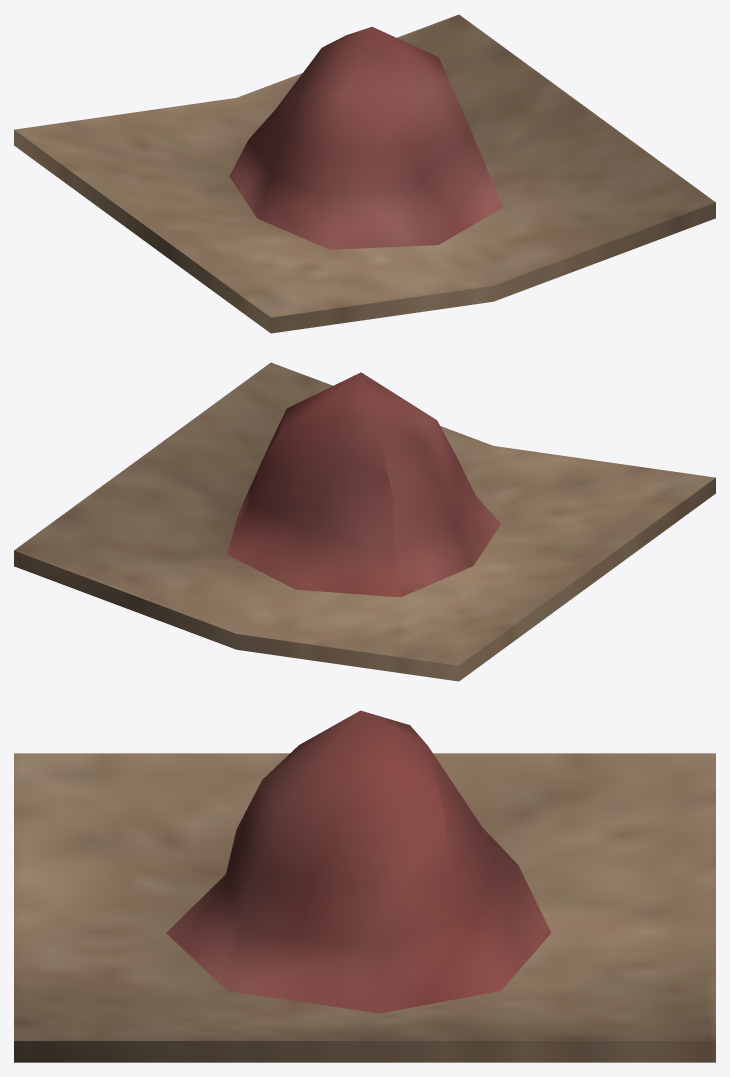
The model's file is Cinnabar_Crushed.fbx.
The picture shows the model from 3 angles, top to bottom: view 1: azimuth 30°, elevation 25°; view 2: azimuth 150°, elevation 25°; view 3: azimuth 270°, elevation 25°; orthographic projection. The views are drawn at different scales.
Visible parts, largest first — view 1: Plane.001; view 2: Plane.001; view 3: Plane.001.
Boxes of the visible parts, bbox=[...] form: Plane.001: bbox=[14, 14, 715, 333]; Plane.001: bbox=[14, 362, 715, 681]; Plane.001: bbox=[14, 710, 715, 1062].
Size of the model in its own units: 0.0713 by 0.0277 by 0.0713.
